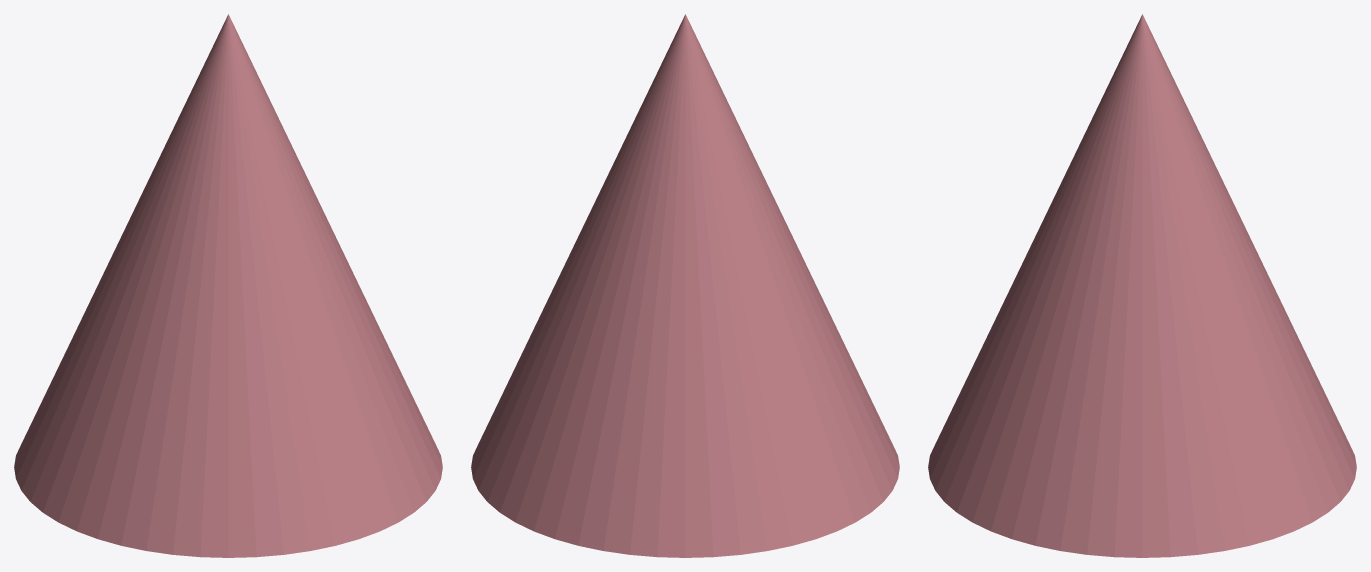
File: cono.glb
3 renders of one model, left to right at view 1: azimuth 30°, elevation 25°; view 2: azimuth 150°, elevation 25°; view 3: azimuth 270°, elevation 25°, orthographic.
Visible parts, largest first — view 1: world; view 2: world; view 3: world.
Boxes of the visible parts, x1,y1,x2,y2 form: world: [14, 14, 442, 557]; world: [471, 14, 899, 557]; world: [928, 14, 1356, 557].
Size of the model in its own units: 0.12 by 0.14 by 0.12.
